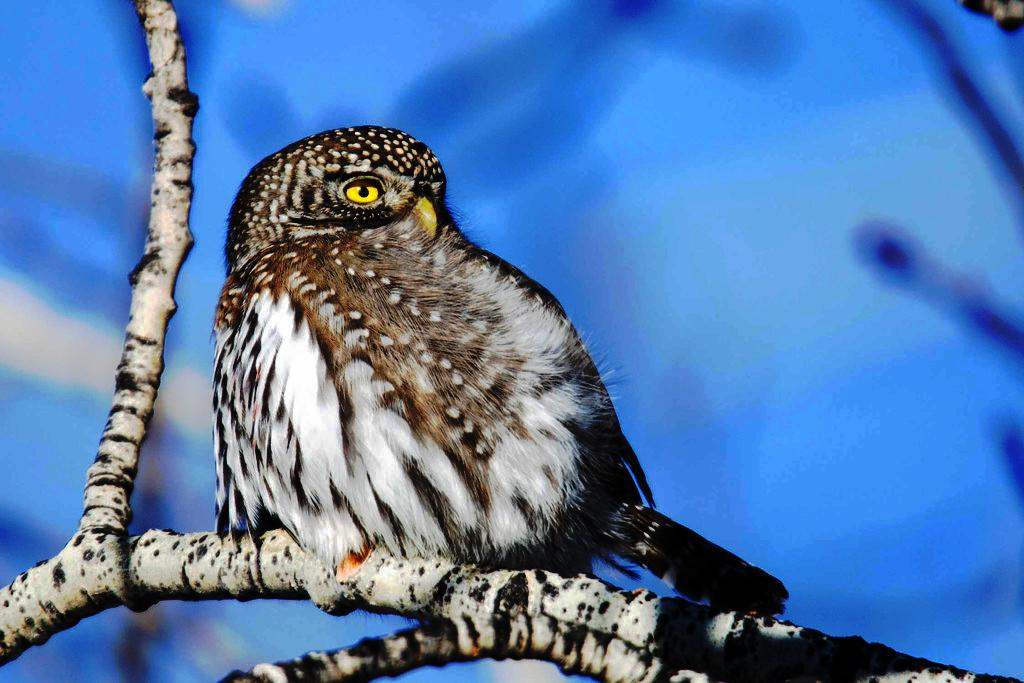Owl: (210, 126, 792, 622)
